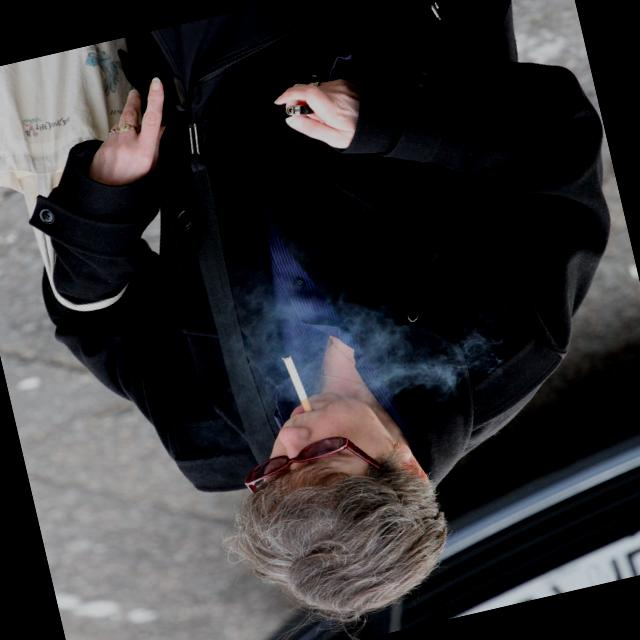cigarette: (274, 347, 328, 417)
